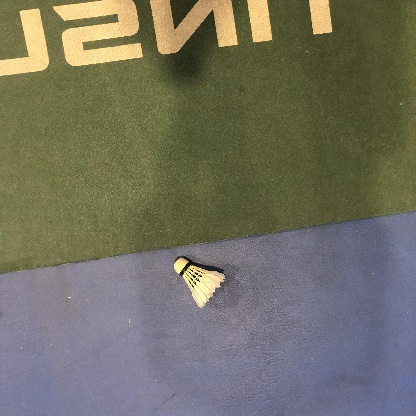ball_single: (174, 258, 225, 308)
